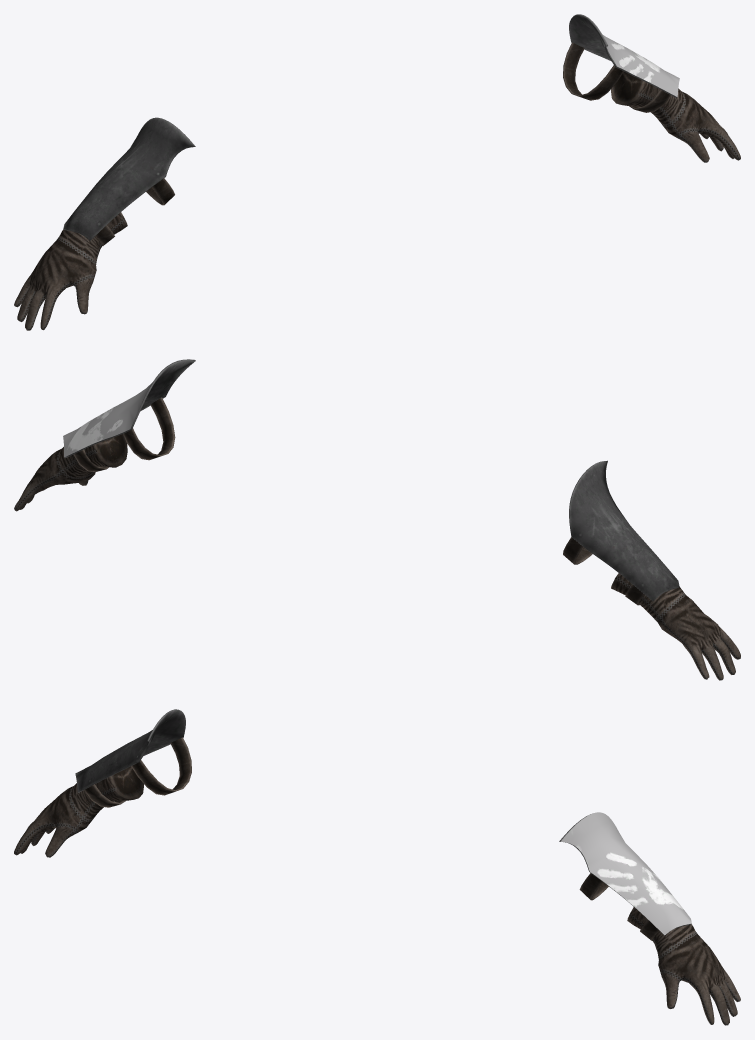
Rendered from sk_uruk_hai_bracer_medium_a2.fbx.
The picture shows the model from 3 angles, top to bottom: view 1: azimuth 30°, elevation 25°; view 2: azimuth 150°, elevation 25°; view 3: azimuth 330°, elevation 25°; orthographic projection.
Visible parts, largest first — view 1: sk_uruk_hai_bracer_medium_a2.1, sk_uruk_hai_bracer_medium_a2.0, sk_uruk_hai_bracer_medium_a2.2; view 2: sk_uruk_hai_bracer_medium_a2.1, sk_uruk_hai_bracer_medium_a2.0, sk_uruk_hai_bracer_medium_a2.2; view 3: sk_uruk_hai_bracer_medium_a2.1, sk_uruk_hai_bracer_medium_a2.2, sk_uruk_hai_bracer_medium_a2.0.
Part boxes in pixels (x1,y1,x2,y2): sk_uruk_hai_bracer_medium_a2.1: (14, 42, 740, 330); sk_uruk_hai_bracer_medium_a2.0: (63, 14, 677, 240); sk_uruk_hai_bracer_medium_a2.2: (574, 14, 679, 96); sk_uruk_hai_bracer_medium_a2.1: (14, 397, 740, 680); sk_uruk_hai_bracer_medium_a2.0: (64, 359, 679, 601); sk_uruk_hai_bracer_medium_a2.2: (63, 359, 194, 457); sk_uruk_hai_bracer_medium_a2.1: (14, 737, 740, 1025); sk_uruk_hai_bracer_medium_a2.2: (560, 812, 691, 935); sk_uruk_hai_bracer_medium_a2.0: (75, 709, 691, 935).
Size of the model in its own units: 1.59 by 0.1963 by 0.3715.
3 materials, 3 textured.
